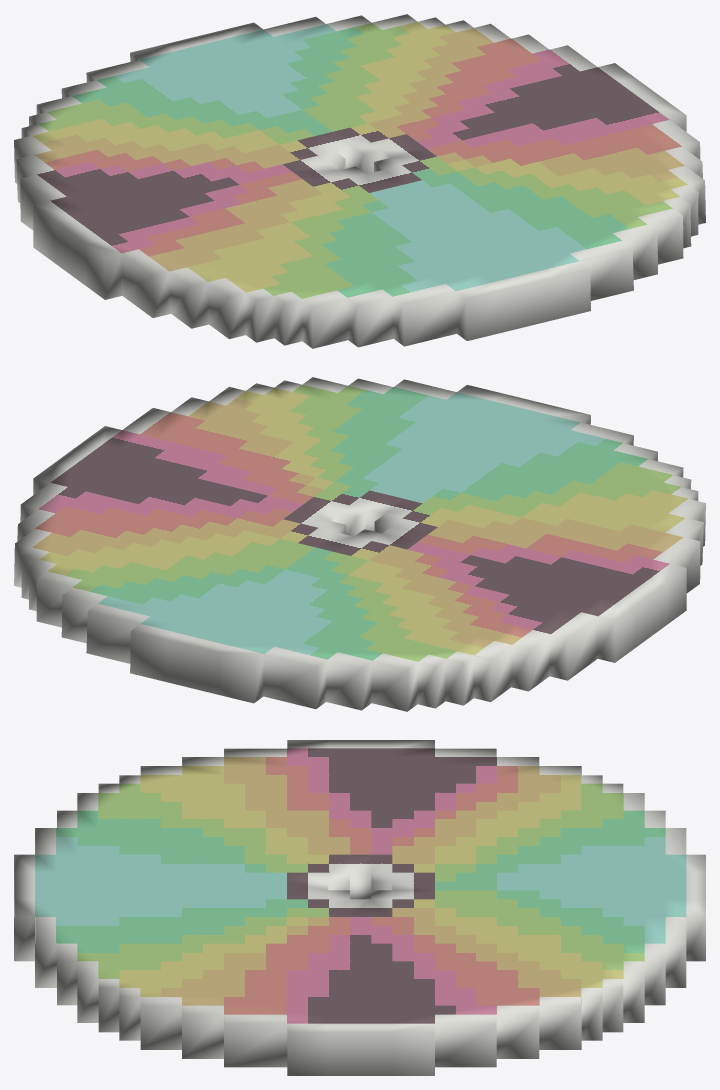
3 views of the same model, one above another, from view 1: azimuth 30°, elevation 25°; view 2: azimuth 150°, elevation 25°; view 3: azimuth 270°, elevation 25° (orthographic). The views are drawn at different scales.
Visible parts, largest first — view 1: CD; view 2: CD; view 3: CD.
Part boxes in pixels (x1,y1,x2,y2): CD: [14, 14, 705, 348]; CD: [14, 377, 705, 711]; CD: [14, 740, 705, 1075].
Size of the model in its own units: 4.11 by 0.2875 by 4.12.
